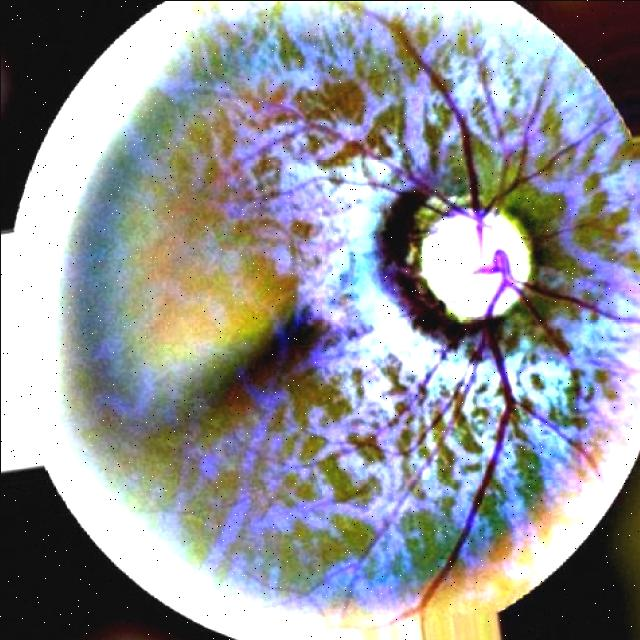Optic Disk: (422, 214, 530, 320)
